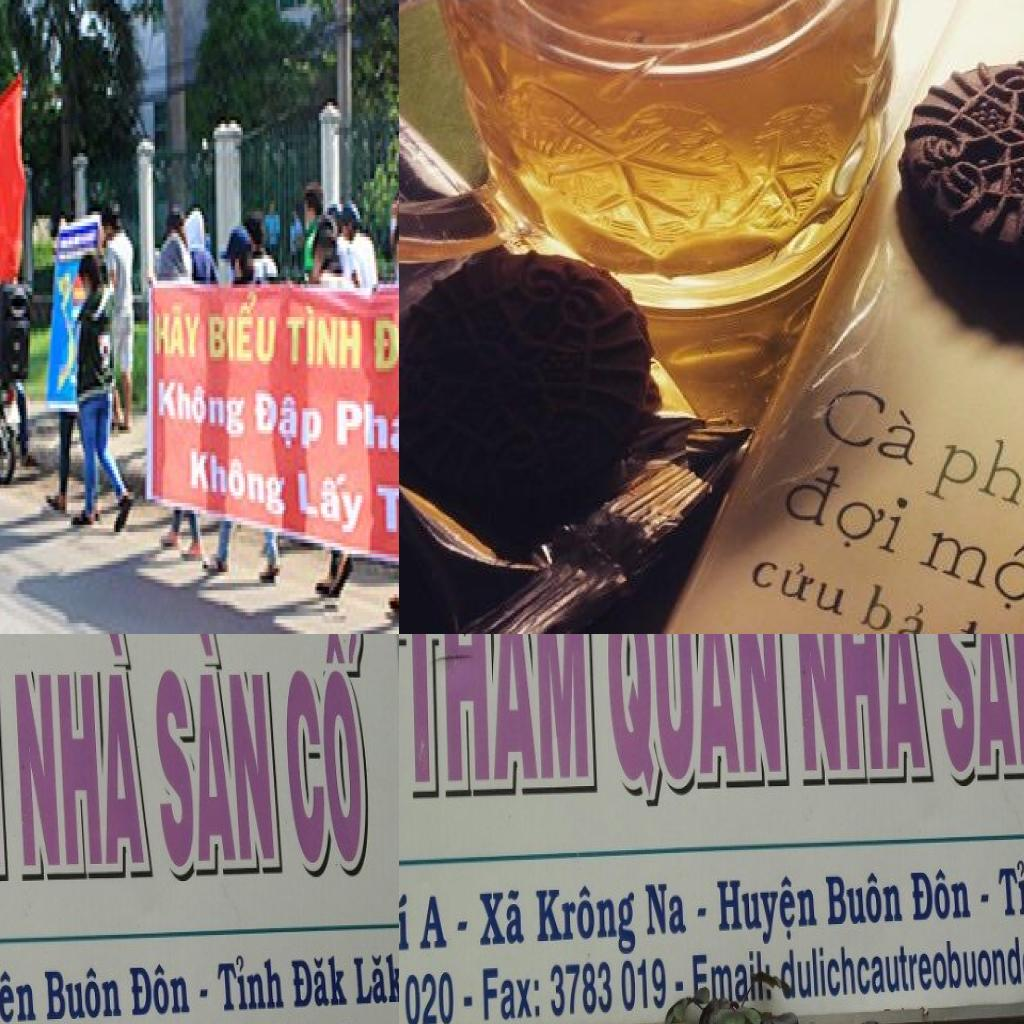text: (13, 634, 155, 881), (604, 634, 789, 814), (399, 634, 597, 798), (152, 634, 282, 882), (276, 634, 373, 881), (794, 634, 936, 786), (773, 452, 918, 568), (905, 509, 1024, 634), (933, 634, 1024, 787), (808, 367, 934, 469), (921, 414, 1024, 537), (745, 541, 856, 623), (186, 444, 290, 524), (532, 882, 639, 956), (716, 874, 824, 947), (550, 955, 670, 1019), (296, 462, 374, 546), (280, 299, 364, 375), (204, 288, 282, 368), (157, 379, 249, 445), (251, 386, 325, 463), (690, 948, 776, 1007), (857, 576, 938, 634), (335, 393, 399, 462), (45, 965, 124, 1020), (826, 870, 905, 925), (215, 956, 286, 1012), (481, 962, 542, 1024), (153, 299, 206, 368), (129, 962, 192, 1019), (910, 867, 973, 924), (291, 954, 350, 1010), (475, 886, 527, 946), (644, 883, 692, 938), (352, 950, 399, 1006), (370, 306, 399, 386), (0, 969, 42, 1024), (416, 893, 452, 952), (376, 481, 399, 550), (996, 861, 1024, 916), (399, 888, 411, 953)
